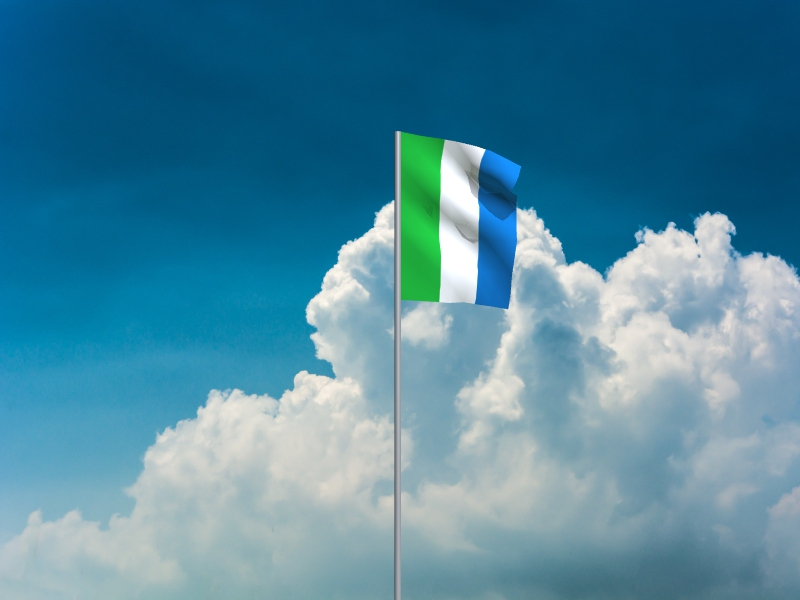sl: (401, 133, 523, 311)
